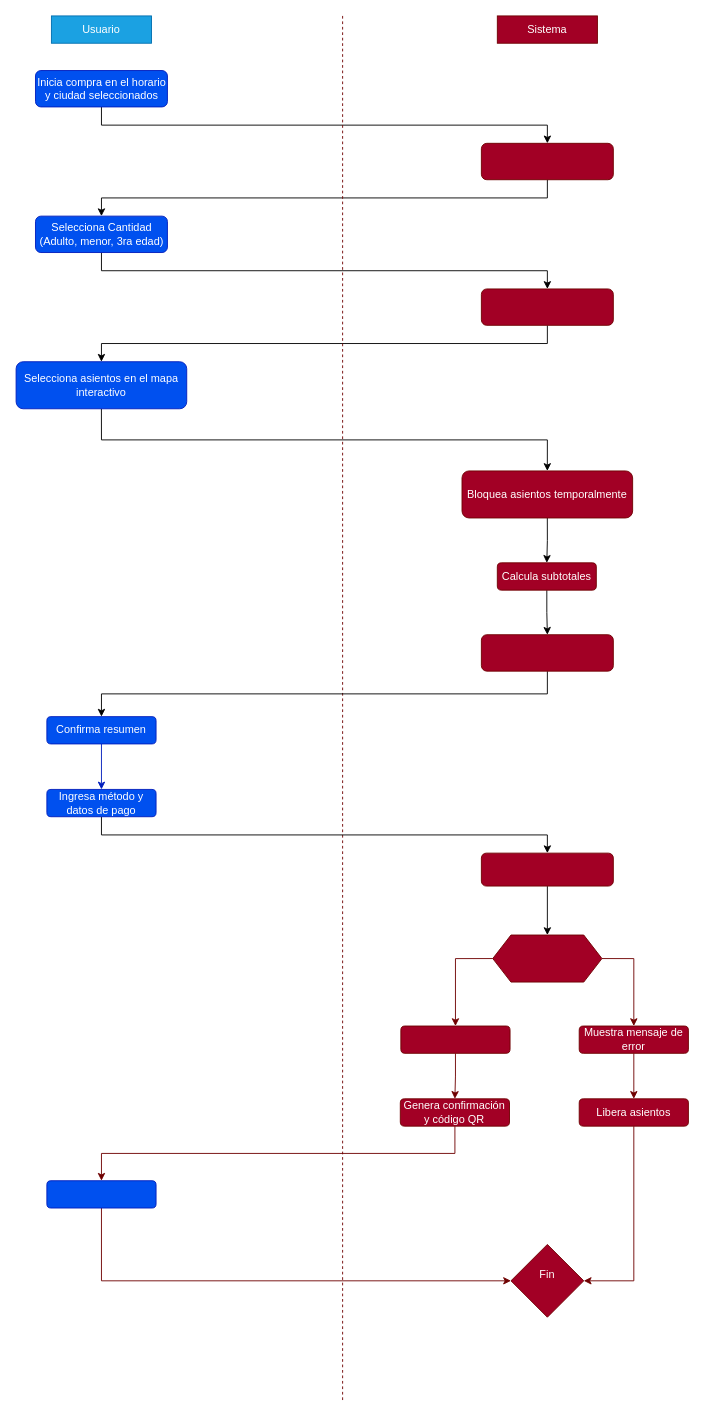
Some shapes in this 704 by 1417 pixel diagram are drawn without their labels. Each missing label, with the centre of its shape:
Cambia estado de asientos a "Vendidos": the point at 455,1039
Muestra mapa de asientos disponibles: the point at 546,306
Muestra opciones de tipos de boleto: the point at 546,161
Pago exitoso?: the point at 547,958
Procesa transacción con pasarela bancaria: the point at 546,869
Recibe boleto dígital: the point at 101,1194
Resumen de compra: the point at 546,652
